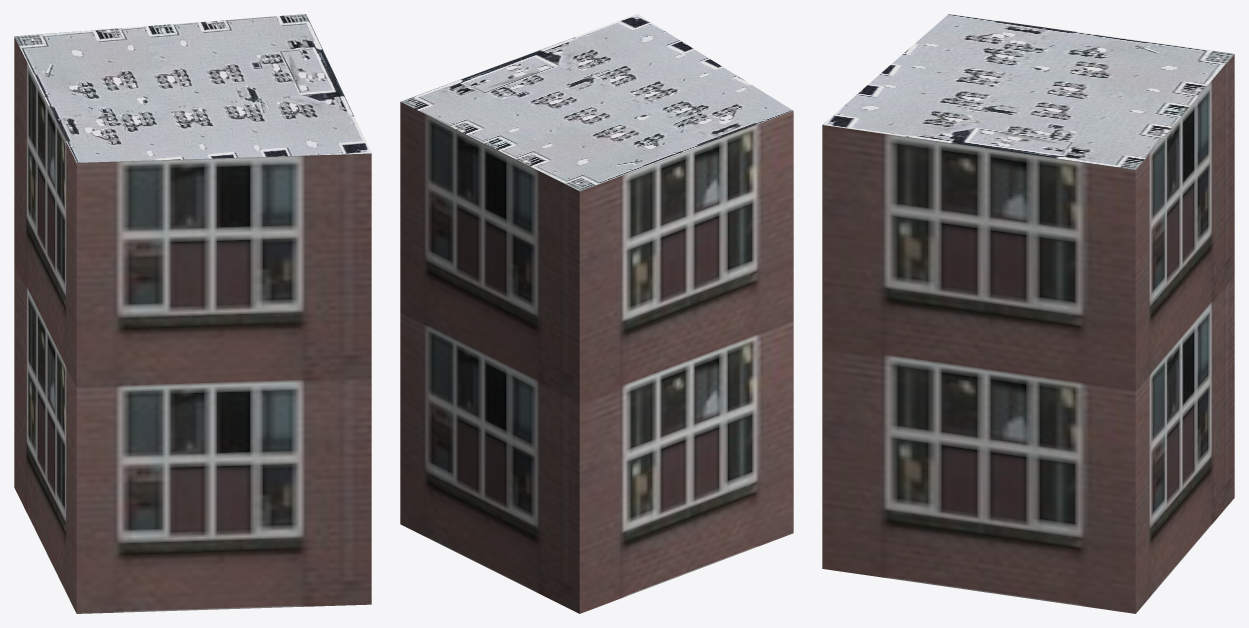
Rendered from ResTex__652.fbx.
3 views of the same model, side by side, from view 1: azimuth 30°, elevation 25°; view 2: azimuth 150°, elevation 25°; view 3: azimuth 270°, elevation 25° (orthographic). The views are drawn at different scales.
Visible parts, largest first — view 1: CityEngineMaterial_12_m, CityEngineMaterial_2_m; view 2: CityEngineMaterial_12_m, CityEngineMaterial_2_m; view 3: CityEngineMaterial_12_m, CityEngineMaterial_2_m.
Part boxes in pixels (<box>): CityEngineMaterial_12_m: <box>14,37,371,613</box>; CityEngineMaterial_2_m: <box>14,14,371,162</box>; CityEngineMaterial_12_m: <box>400,102,793,613</box>; CityEngineMaterial_2_m: <box>401,14,793,191</box>; CityEngineMaterial_12_m: <box>822,54,1234,613</box>; CityEngineMaterial_2_m: <box>822,14,1234,169</box>.
Bounding box in the file's own units: 4.52 × 6 × 5.05.
Materials: 2 (2 with a texture image).
